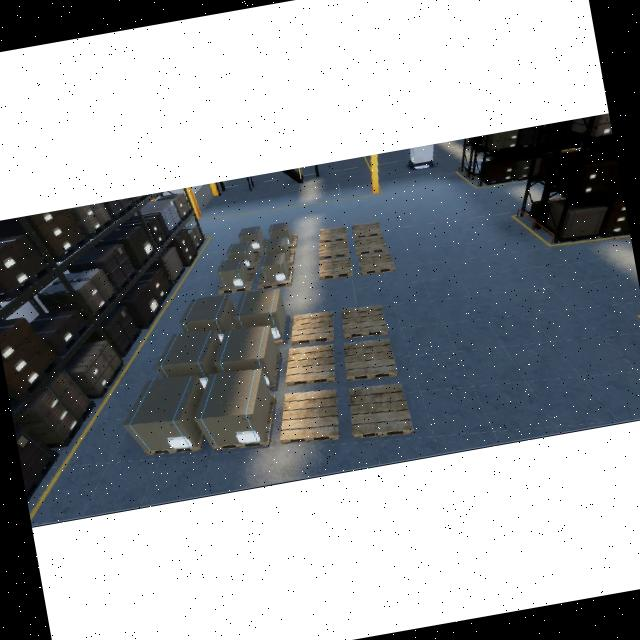wooden_pallet: (211, 396, 277, 450), (286, 343, 335, 385), (144, 430, 206, 455), (217, 270, 256, 294), (257, 266, 293, 289), (319, 257, 353, 280)
